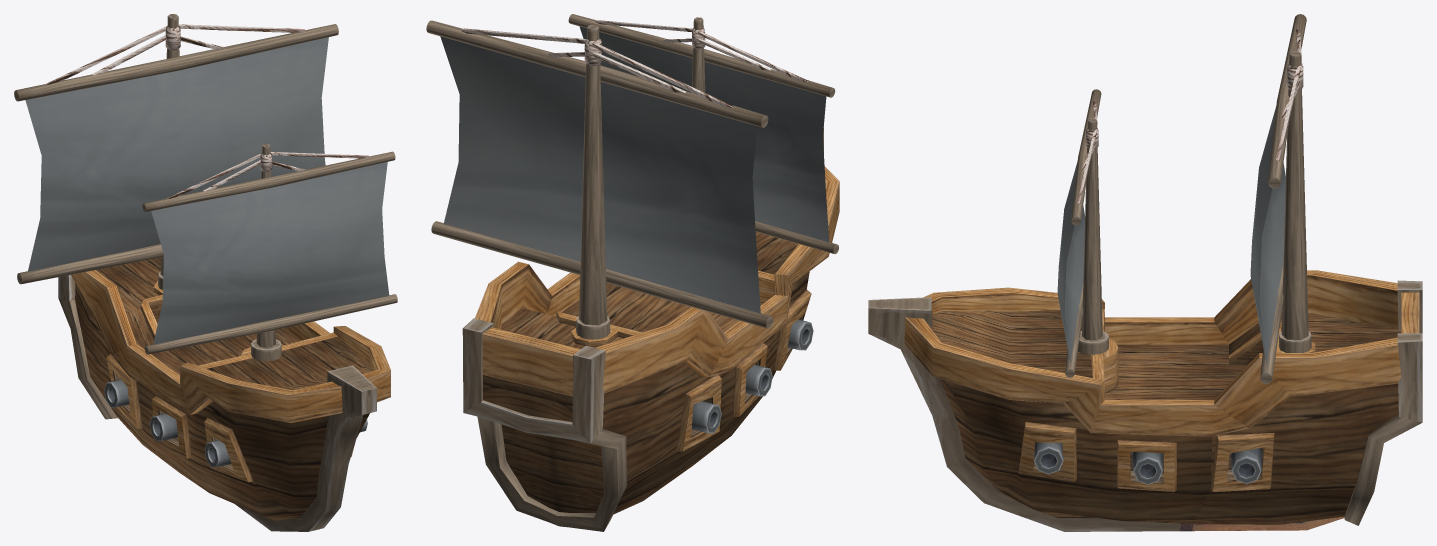
File: PirateShip.fbx
The picture shows the model from 3 angles, left to right: view 1: azimuth 30°, elevation 25°; view 2: azimuth 150°, elevation 25°; view 3: azimuth 270°, elevation 25°; orthographic projection. The views are drawn at different scales.
Parts seen in each view (by area): view 1: PirateShip; view 2: PirateShip; view 3: PirateShip.
Part boxes in pixels (<box>): PirateShip: <box>14,14,397,531</box>; PirateShip: <box>426,14,839,531</box>; PirateShip: <box>868,14,1422,531</box>.
Size of the model in its own units: 519 by 698 by 740.
